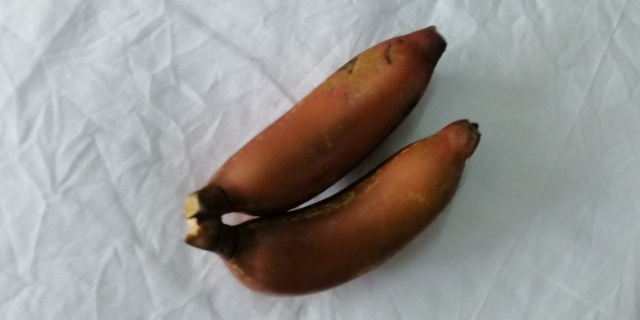banana_red: (193, 24, 450, 213), (217, 118, 480, 294)
